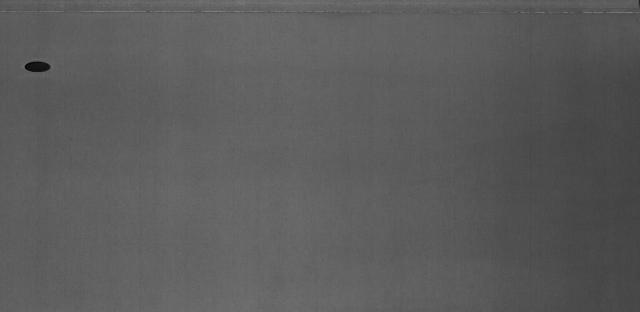punching_hole: (18, 56, 63, 77)
